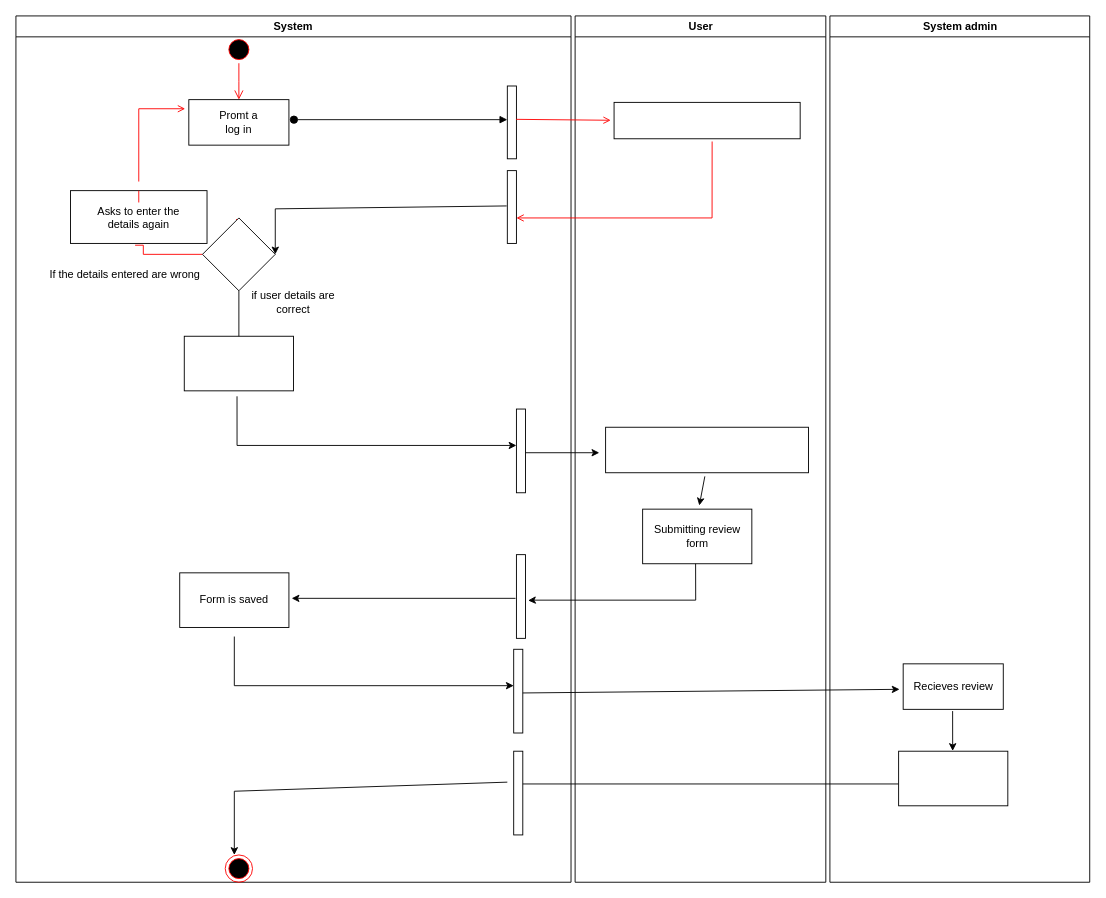
Image size: 1106x898. Some labels were removed from this diagram. Here are the shapes that lost their labels. From the top down, the centre of each, then its label:
At point 706,120: "Enters login detals".
At point 238,363: "Main menu page".
At point 707,449: "accessing review form page".
At point 953,778: "Sends to system developers".
